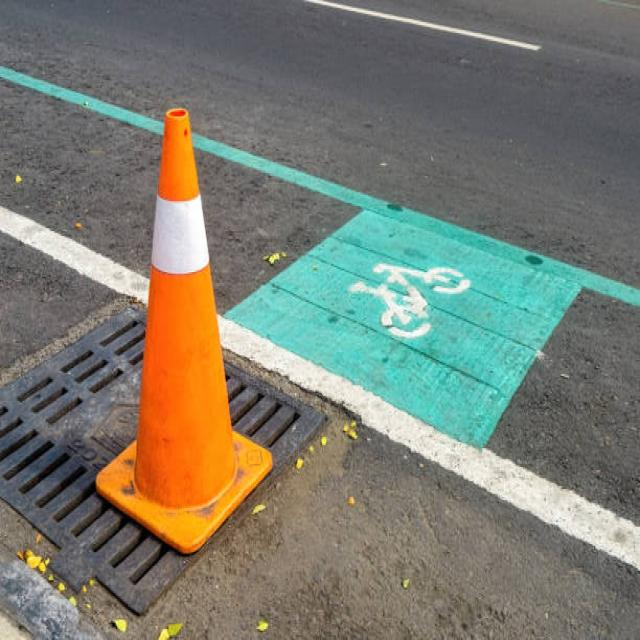Traffic Cone: (64, 81, 303, 578)
